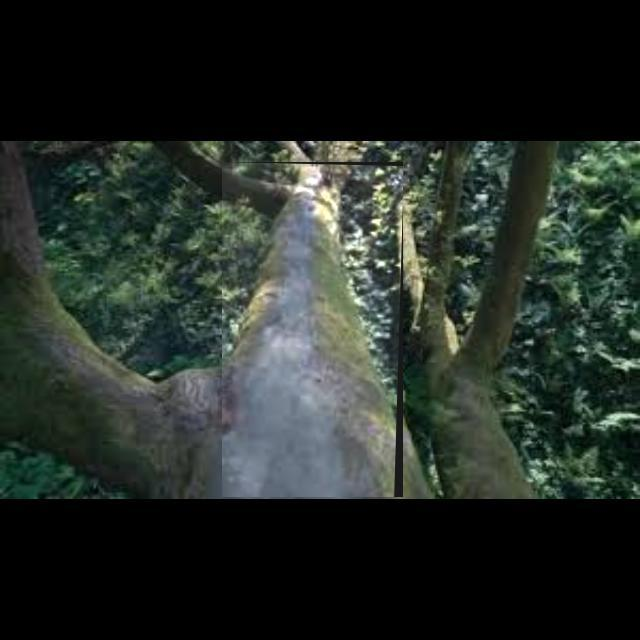fallen_tree: (222, 162, 404, 498)
